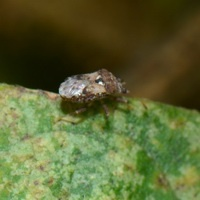insect: (59, 69, 127, 103), (59, 69, 127, 102)
